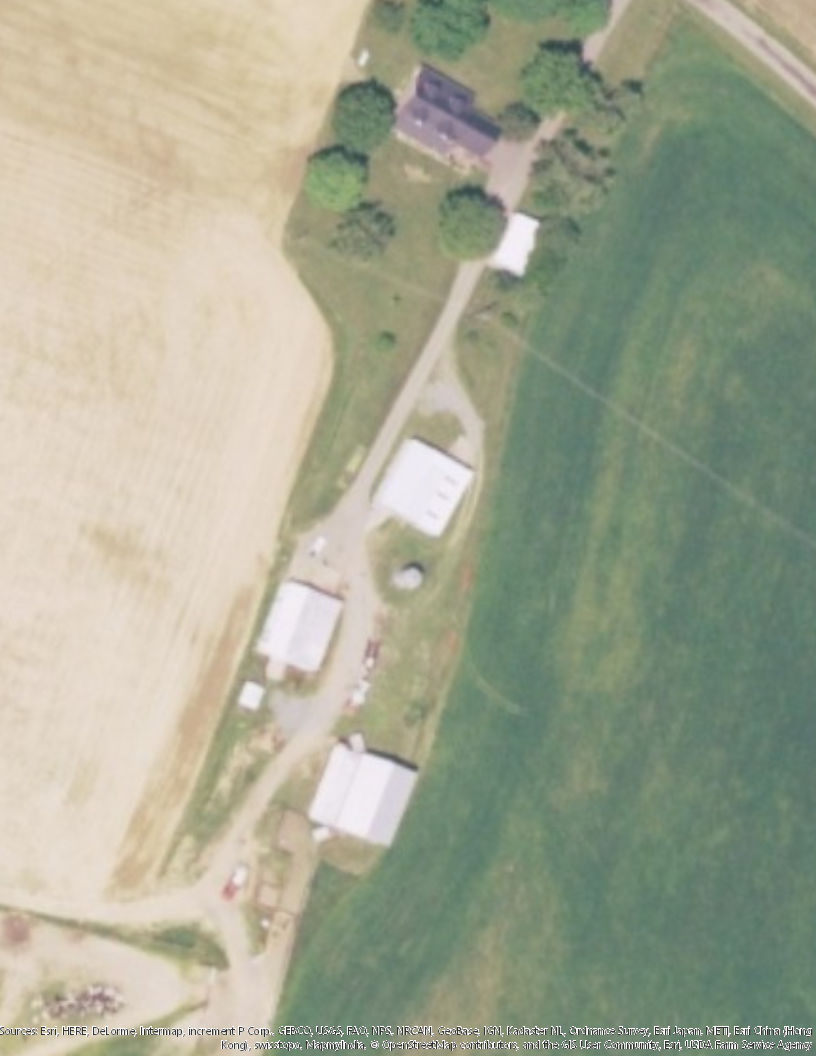cafo: (308, 740, 428, 857), (256, 571, 356, 683)
